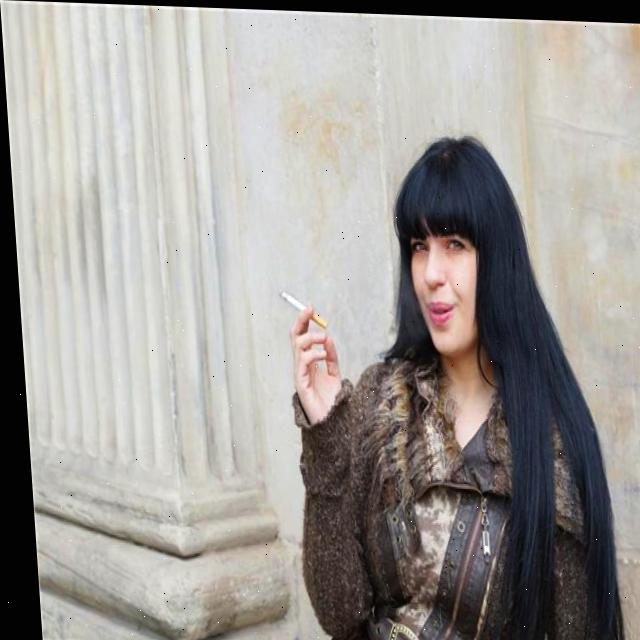cigarette: (274, 288, 326, 325)
